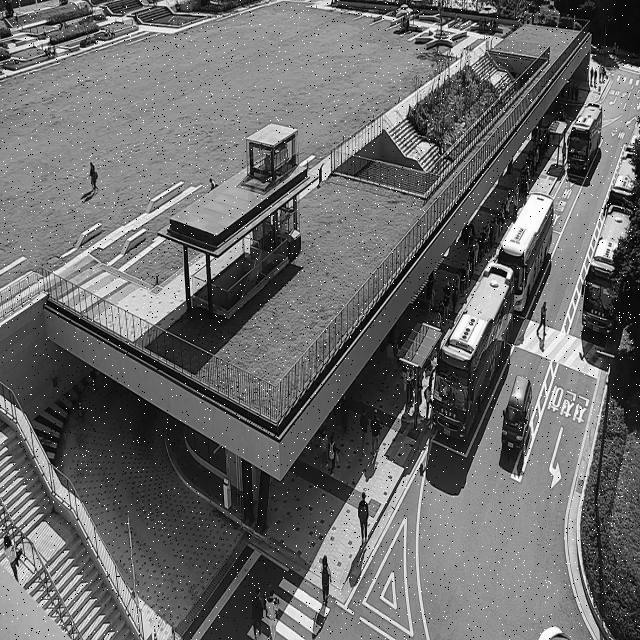queue: (417, 103, 565, 427)
